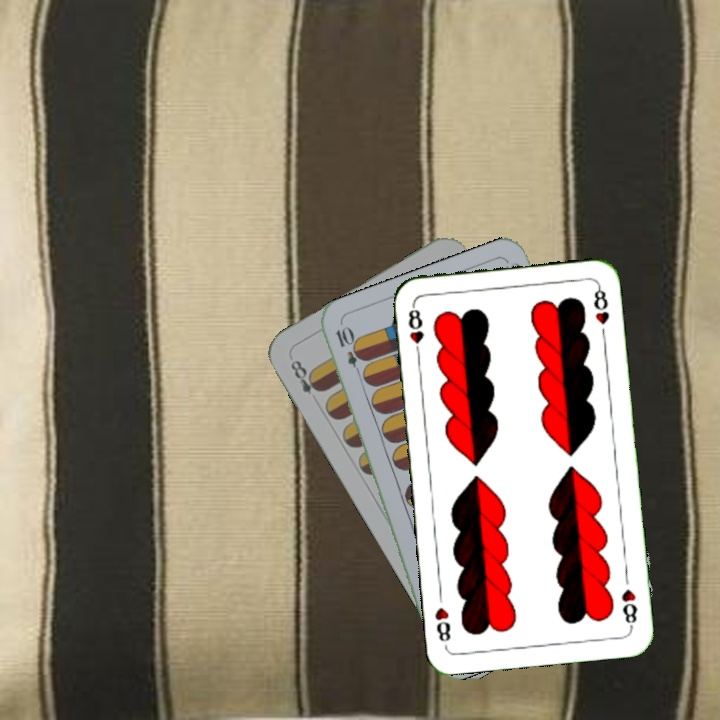E10: (331, 322, 366, 380)
E8: (286, 356, 325, 398)
H8: (404, 301, 426, 360), (618, 585, 640, 631)
